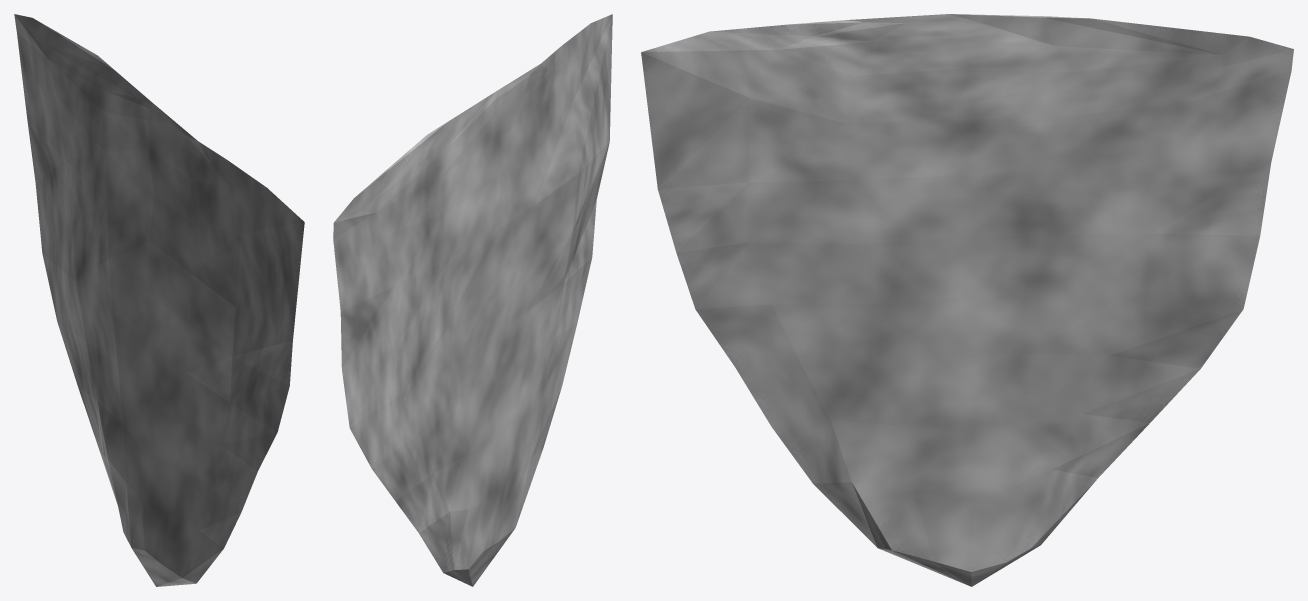
Rendered from shield.obj.
3 renders of one model, left to right at view 1: azimuth 30°, elevation 25°; view 2: azimuth 150°, elevation 25°; view 3: azimuth 270°, elevation 25°, orthographic. The views are drawn at different scales.
Visible parts, largest first — view 1: Mesh_Sphere.003; view 2: Mesh_Sphere.003; view 3: Mesh_Sphere.003.
Part boxes in pixels (<box>): Mesh_Sphere.003: <box>14,14,304,586</box>; Mesh_Sphere.003: <box>333,14,612,586</box>; Mesh_Sphere.003: <box>641,14,1293,586</box>.
Size of the model in its own units: 0.0343 by 0.7203 by 0.7532.
Materials: 1 (1 with a texture image).
